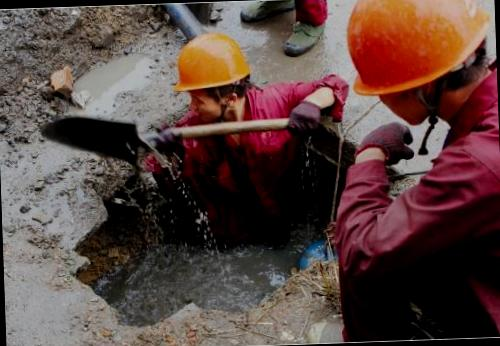person: (321, 0, 500, 342), (118, 26, 348, 252)
